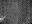person: (1, 16, 7, 22)
